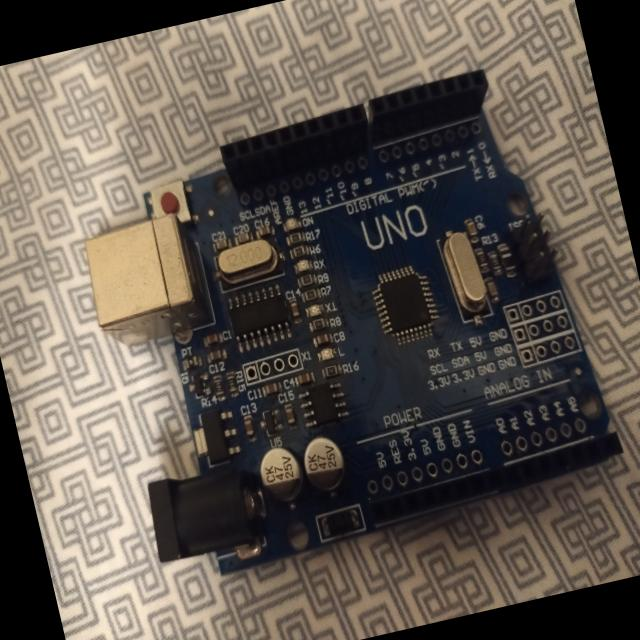arduino: (54, 37, 640, 602)
